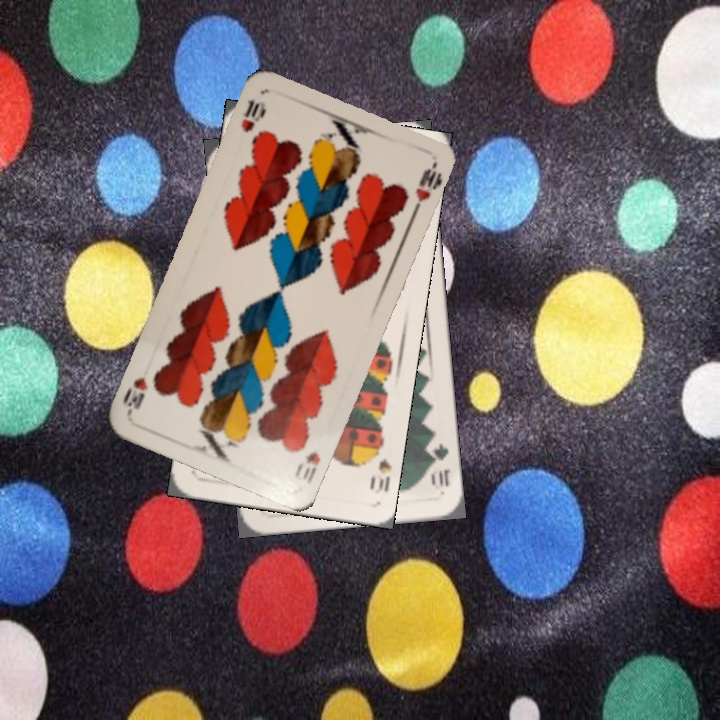G10: (425, 439, 453, 490)
H10: (236, 95, 269, 135), (290, 447, 323, 486)
S10: (366, 441, 394, 496)
